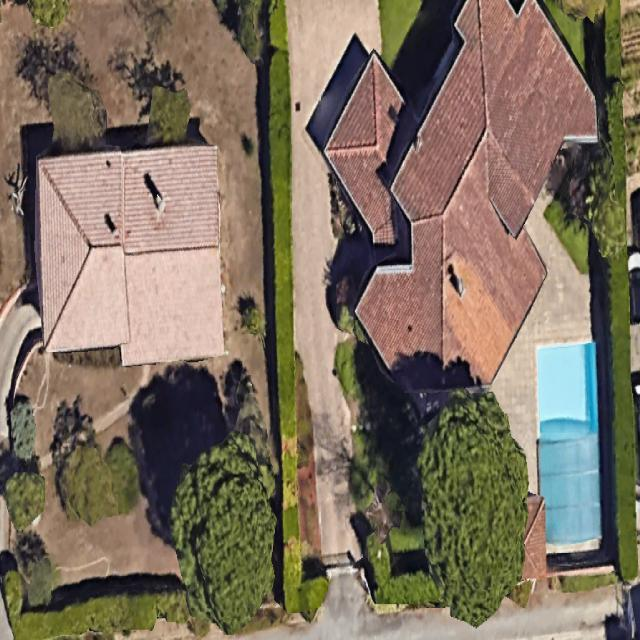maison: (253, 0, 634, 420), (33, 143, 224, 367)
